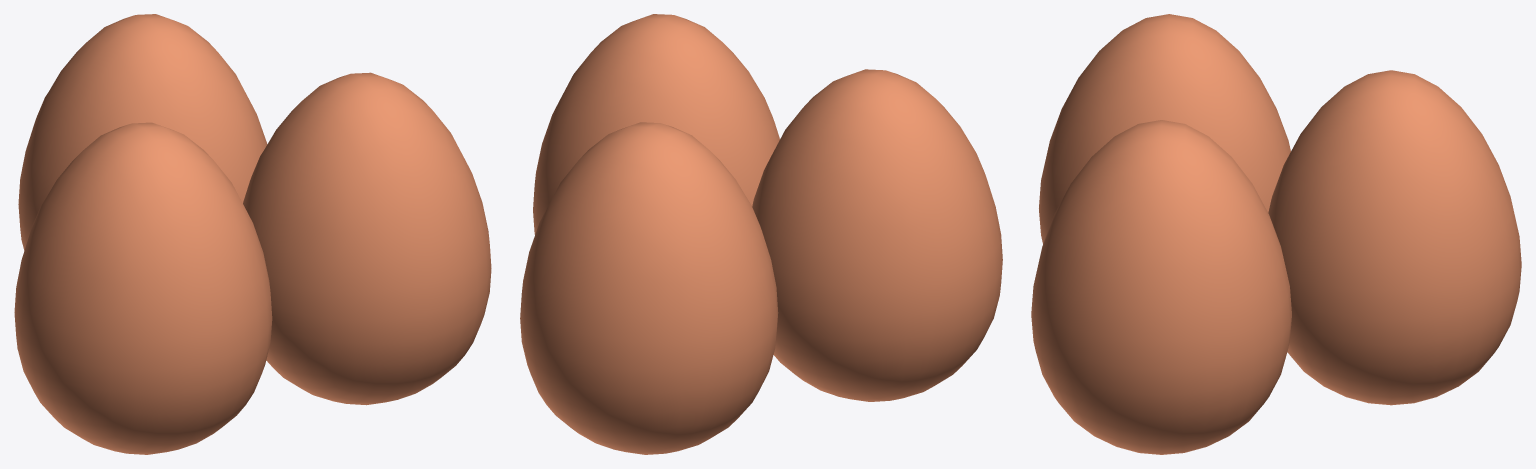
Rendered from telur.fbx.
3 views of the same model, side by side, from view 1: azimuth 30°, elevation 25°; view 2: azimuth 150°, elevation 25°; view 3: azimuth 270°, elevation 25° (orthographic).
Visible parts, largest first — view 1: telor.002, telor.001, telor; view 2: telor, telor.002, telor.001; view 3: telor.001, telor, telor.002.
Boxes of the visible parts, <box> form: telor.002: <box>14,122,272,454</box>; telor.001: <box>243,72,491,405</box>; telor: <box>18,14,267,250</box>; telor: <box>520,122,778,454</box>; telor.002: <box>752,69,1002,401</box>; telor.001: <box>533,14,779,234</box>; telor.001: <box>1031,120,1291,454</box>; telor: <box>1268,70,1521,405</box>; telor.002: <box>1039,14,1290,243</box>.
Bounding box in the file's own units: 33.19 × 22.74 × 31.84.
